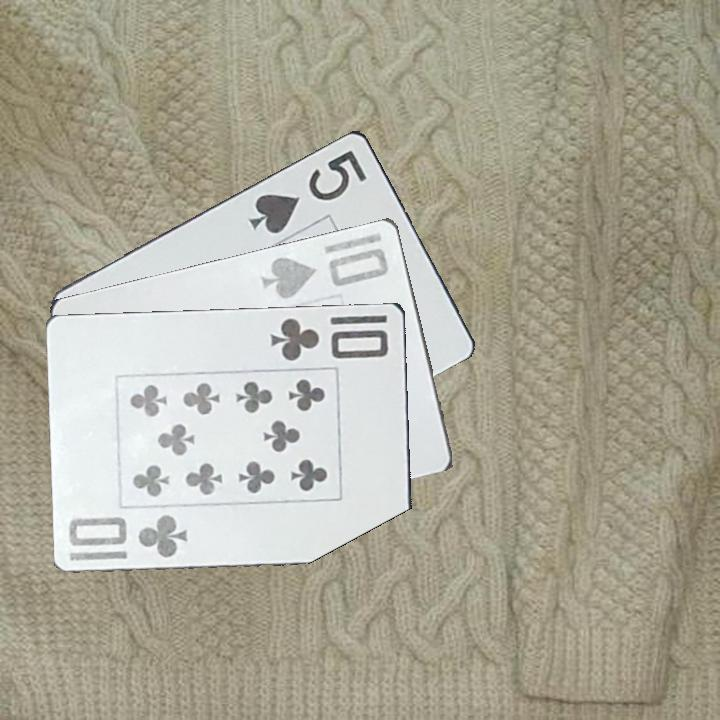5s: (245, 145, 371, 236)
Tc: (65, 510, 191, 564), (266, 314, 392, 363)
Ts: (258, 243, 392, 302)
